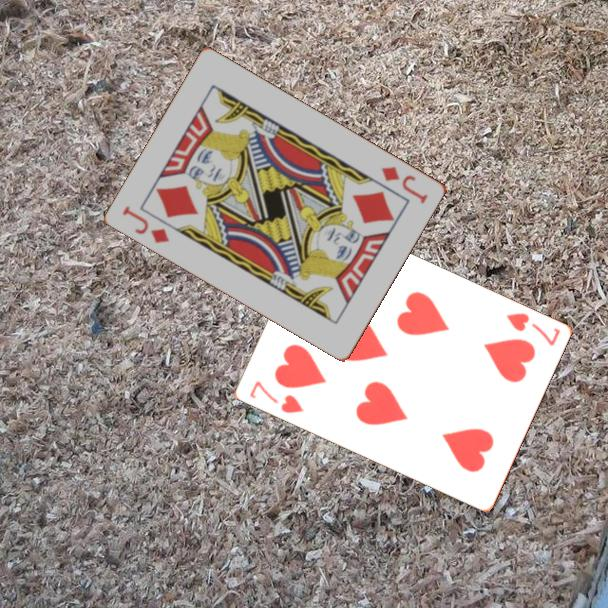d11: (119, 202, 173, 246), (378, 163, 431, 206)
h07: (502, 309, 563, 349), (245, 377, 306, 416)
